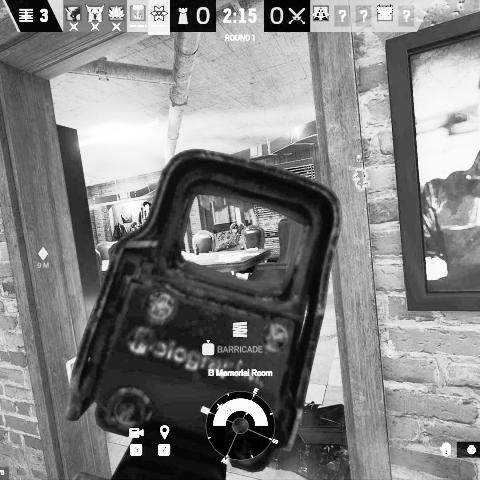Character: (213, 221, 249, 253)
Friend_label: (348, 154, 368, 171)
Head: (229, 222, 240, 234)
